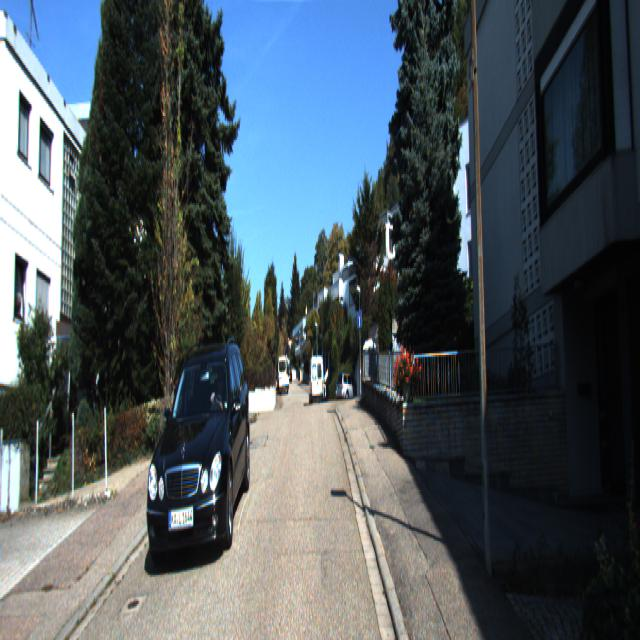Car: (144, 329, 252, 565), (308, 351, 324, 408)
